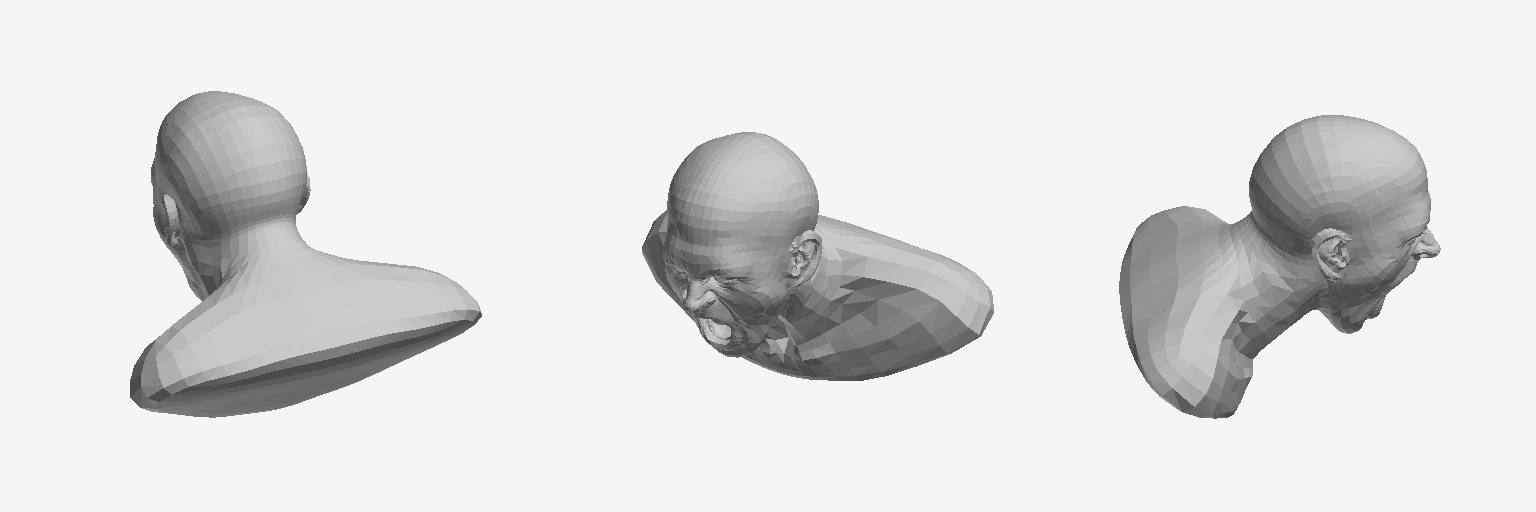
File: Rage_Man.obj
3 views of the same model, side by side, from view 1: azimuth 30°, elevation 25°; view 2: azimuth 150°, elevation 25°; view 3: azimuth 270°, elevation 25° (orthographic).
Parts seen in each view (by area): view 1: EvilScreaminManBaseMesh; view 2: EvilScreaminManBaseMesh; view 3: EvilScreaminManBaseMesh.
Boxes of the visible parts, x1=… form: EvilScreaminManBaseMesh: x1=130, y1=91, x2=481, y2=417; EvilScreaminManBaseMesh: x1=642, y1=132, x2=993, y2=380; EvilScreaminManBaseMesh: x1=1119, y1=115, x2=1440, y2=418.
Size of the model in its own units: 3.17 by 2.43 by 2.62.